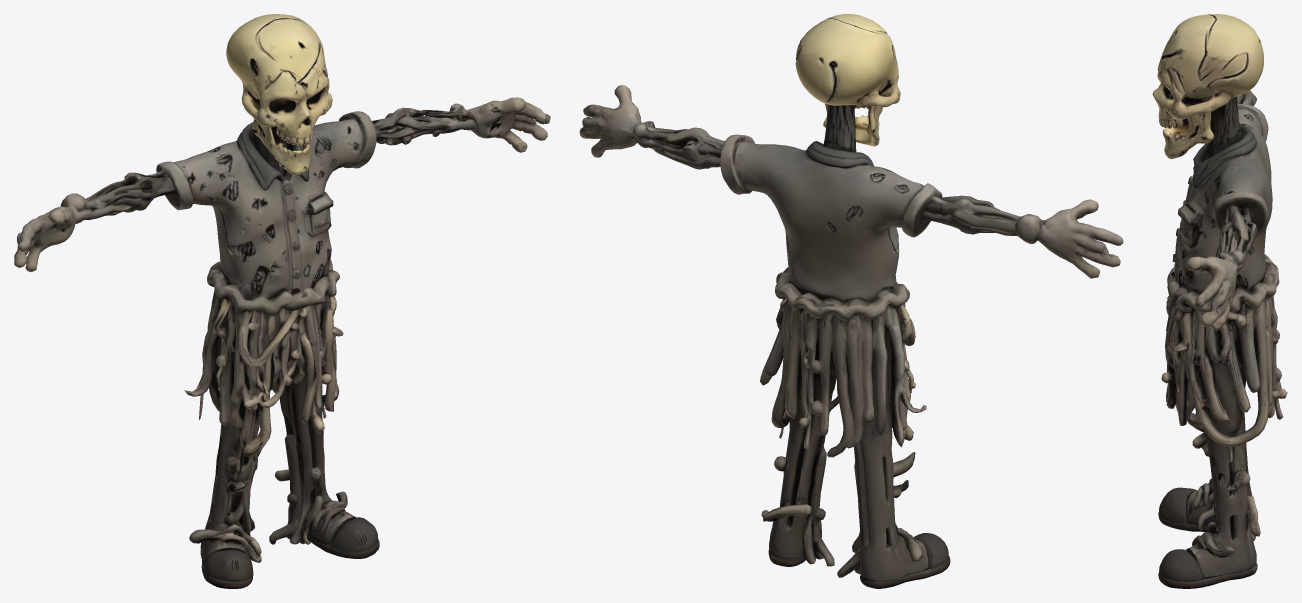
The model's file is mop_wight.glb.
3 renders of one model, left to right at view 1: azimuth 30°, elevation 25°; view 2: azimuth 150°, elevation 25°; view 3: azimuth 270°, elevation 25°, orthographic.
Visible parts, largest first — view 1: mop_wight; view 2: mop_wight; view 3: mop_wight.
Part boxes in pixels (x1,y1,x2,y2): mop_wight: (14,14,550,588); mop_wight: (579,14,1123,588); mop_wight: (1152,14,1287,588).
Bounding box in the file's own units: 1.93 × 1.85 × 0.425.
1 material, 1 textured.
